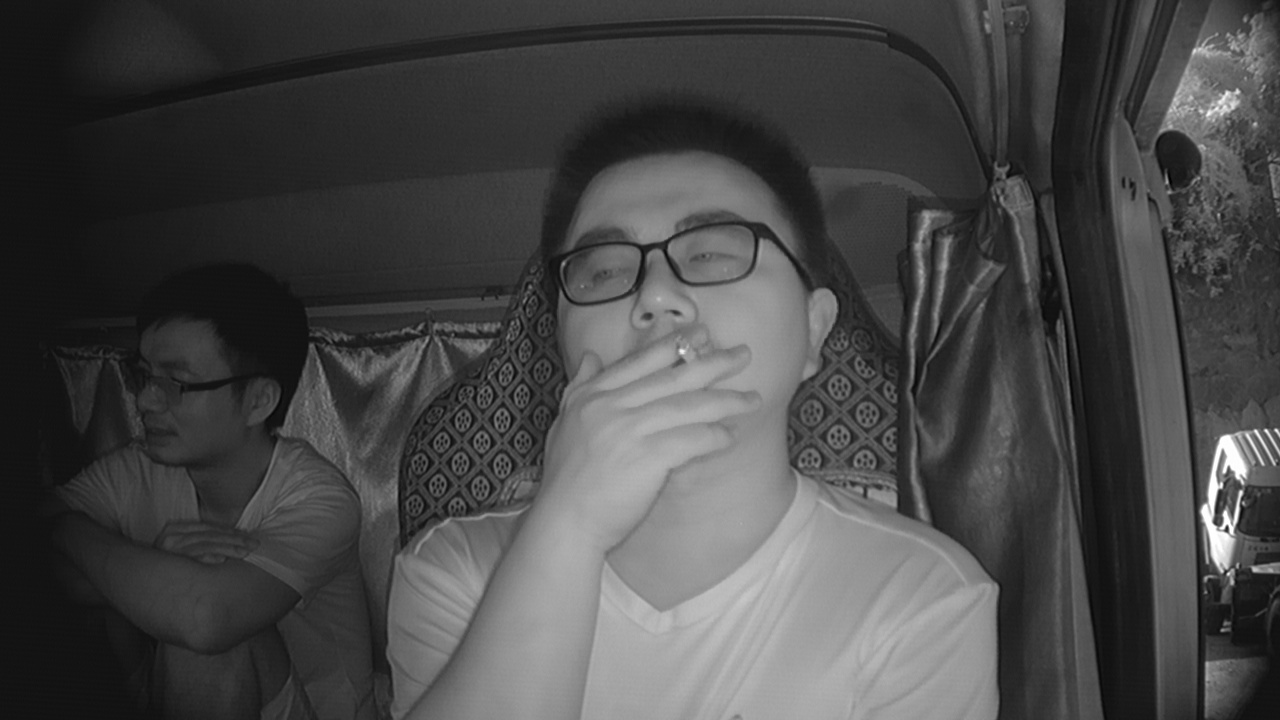hand: (602, 329, 745, 477)
